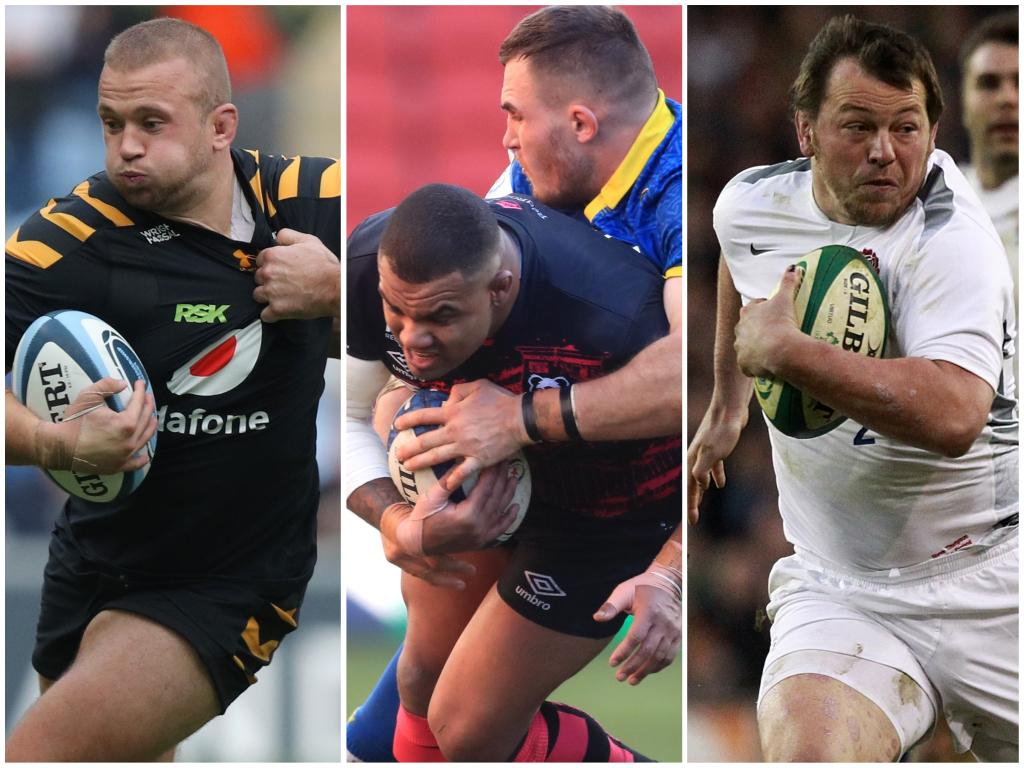ballon_rugby: (748, 231, 897, 446), (10, 306, 160, 500), (389, 383, 538, 558)
